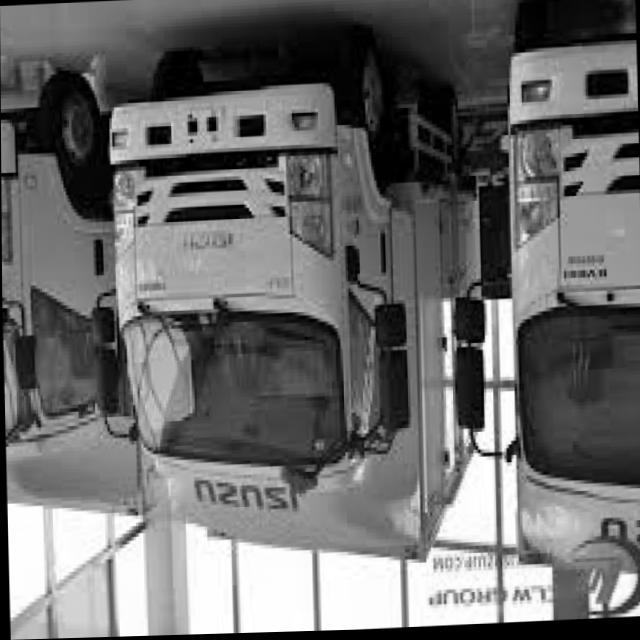truck: (98, 33, 426, 545), (439, 1, 640, 625), (1, 58, 140, 522)
